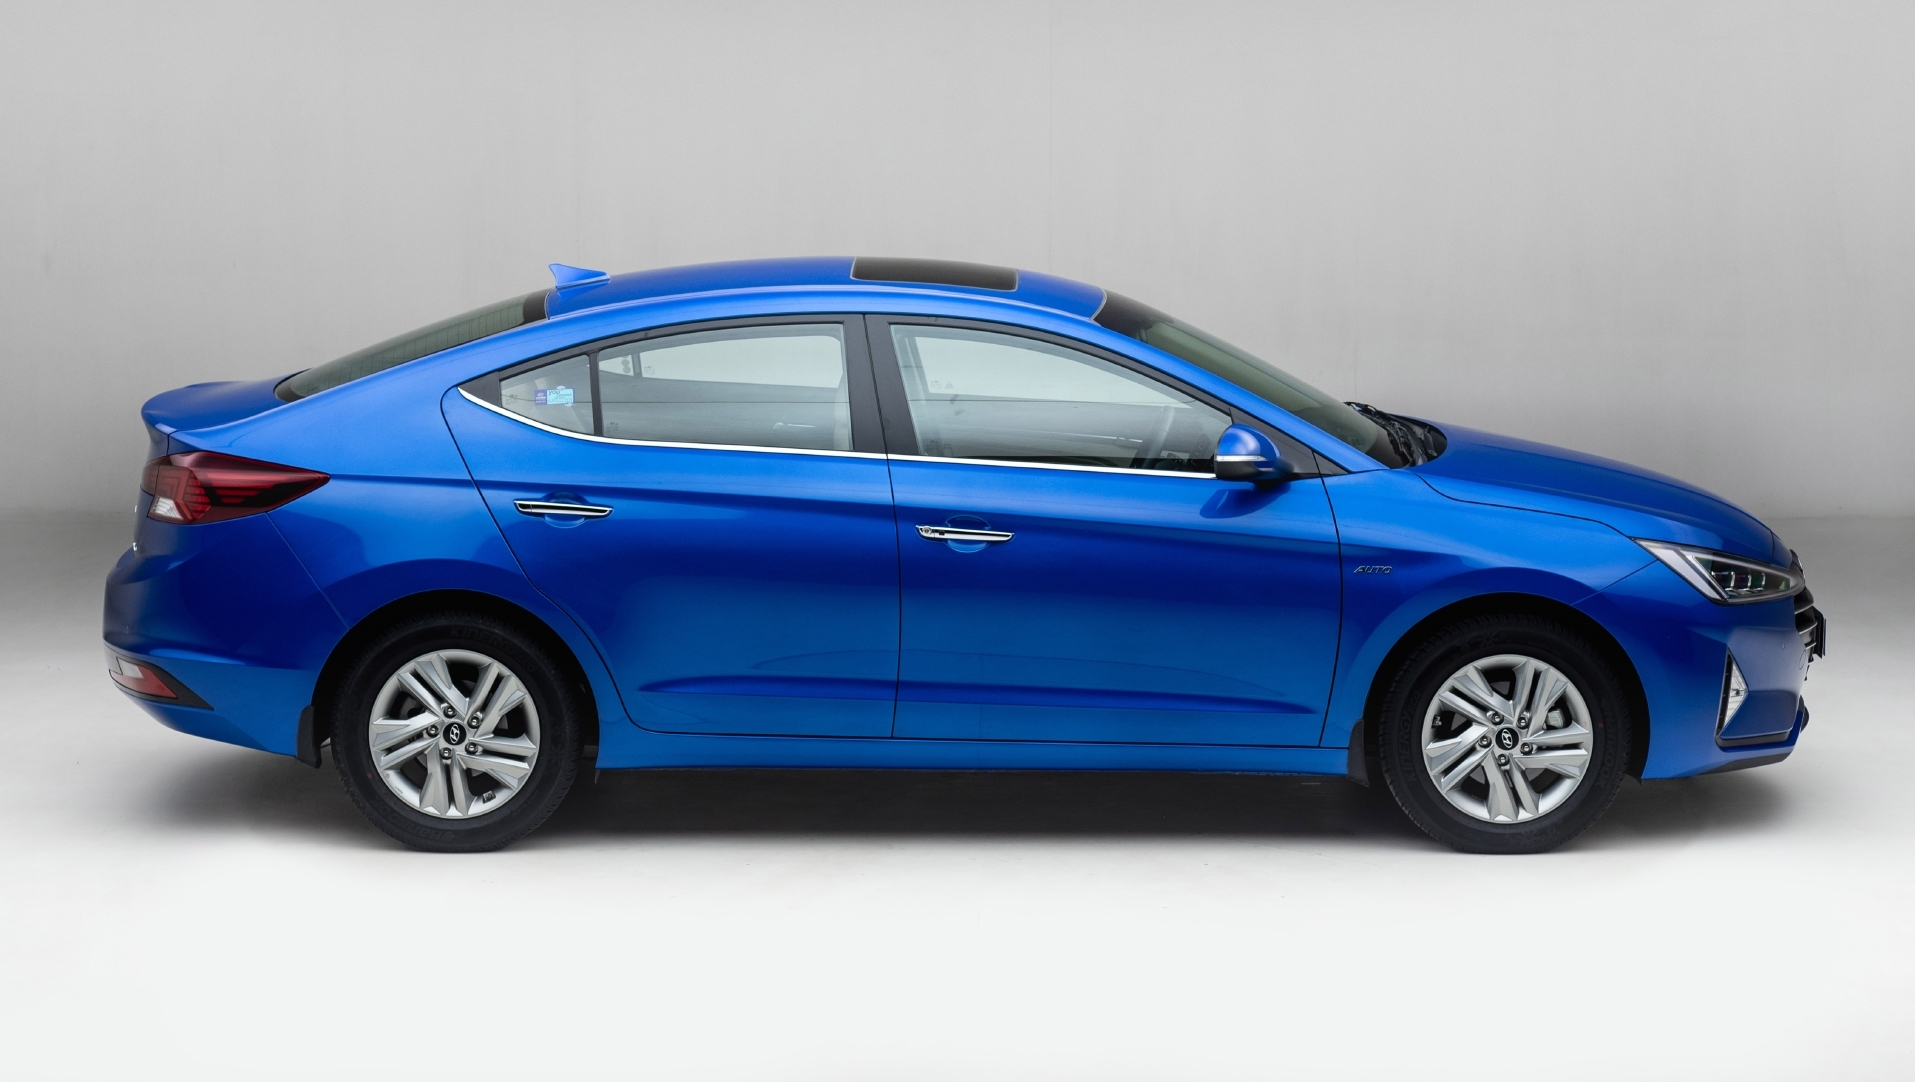car: (95, 254, 1823, 862)
